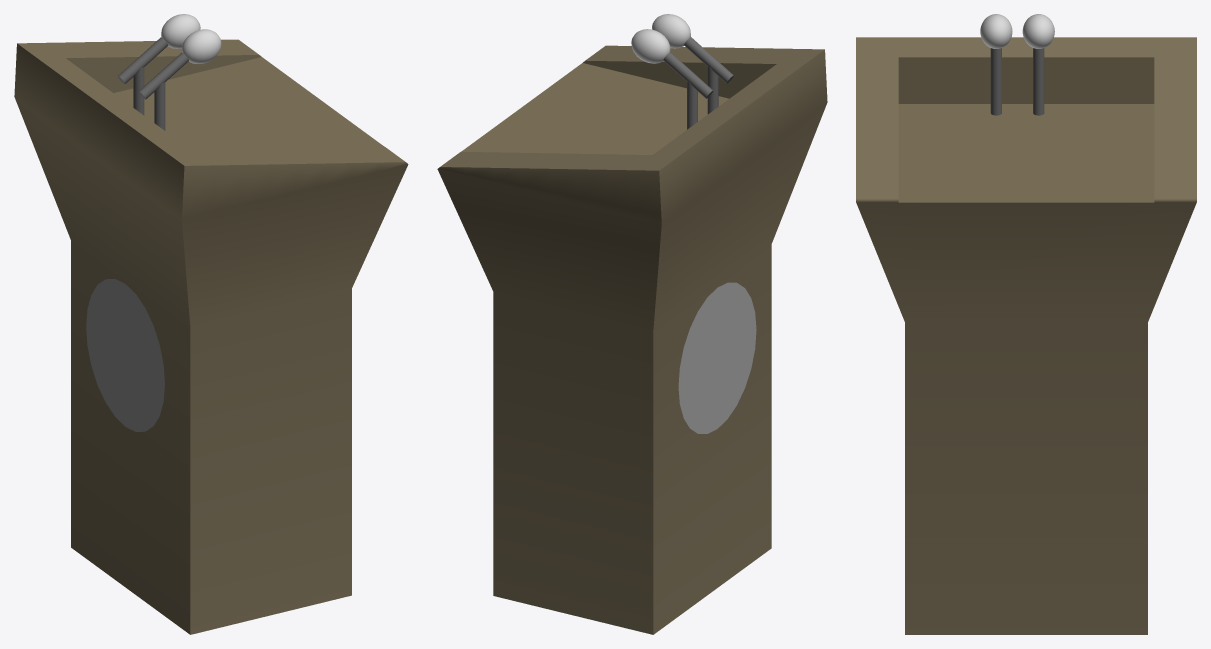
File: podium.fbx
The picture shows the model from 3 angles, left to right: view 1: azimuth 30°, elevation 25°; view 2: azimuth 150°, elevation 25°; view 3: azimuth 270°, elevation 25°; orthographic projection. The views are drawn at different scales.
Parts seen in each view (by area): view 1: podiumComb; view 2: podiumComb; view 3: podiumComb.
Part boxes in pixels (x1,y1,x2,y2): podiumComb: (14,14,408,634); podiumComb: (437,14,827,634); podiumComb: (856,14,1196,634).
Bounding box in the file's own units: 0.7066 × 1.66 × 0.9043.
